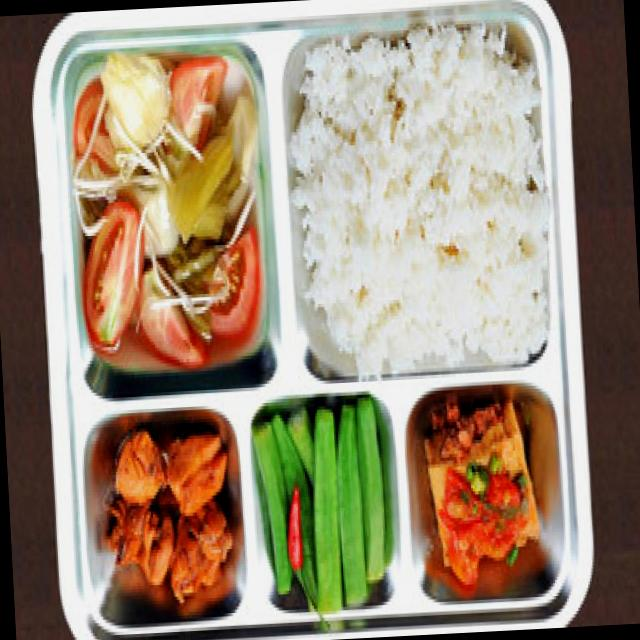ca chua: (80, 224, 263, 372), (84, 202, 143, 354), (171, 59, 227, 135)
com: (288, 23, 549, 372)
dau bap: (253, 401, 390, 618)
dau hu: (427, 403, 536, 585)
ga chien: (109, 432, 232, 603)
ot: (287, 488, 302, 571)
